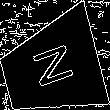N_W: (26, 42, 77, 95)
